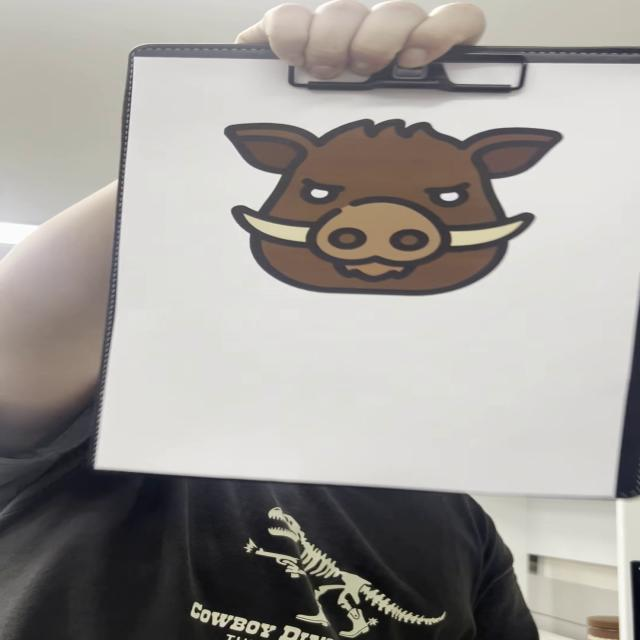animal: (225, 119, 565, 298)
